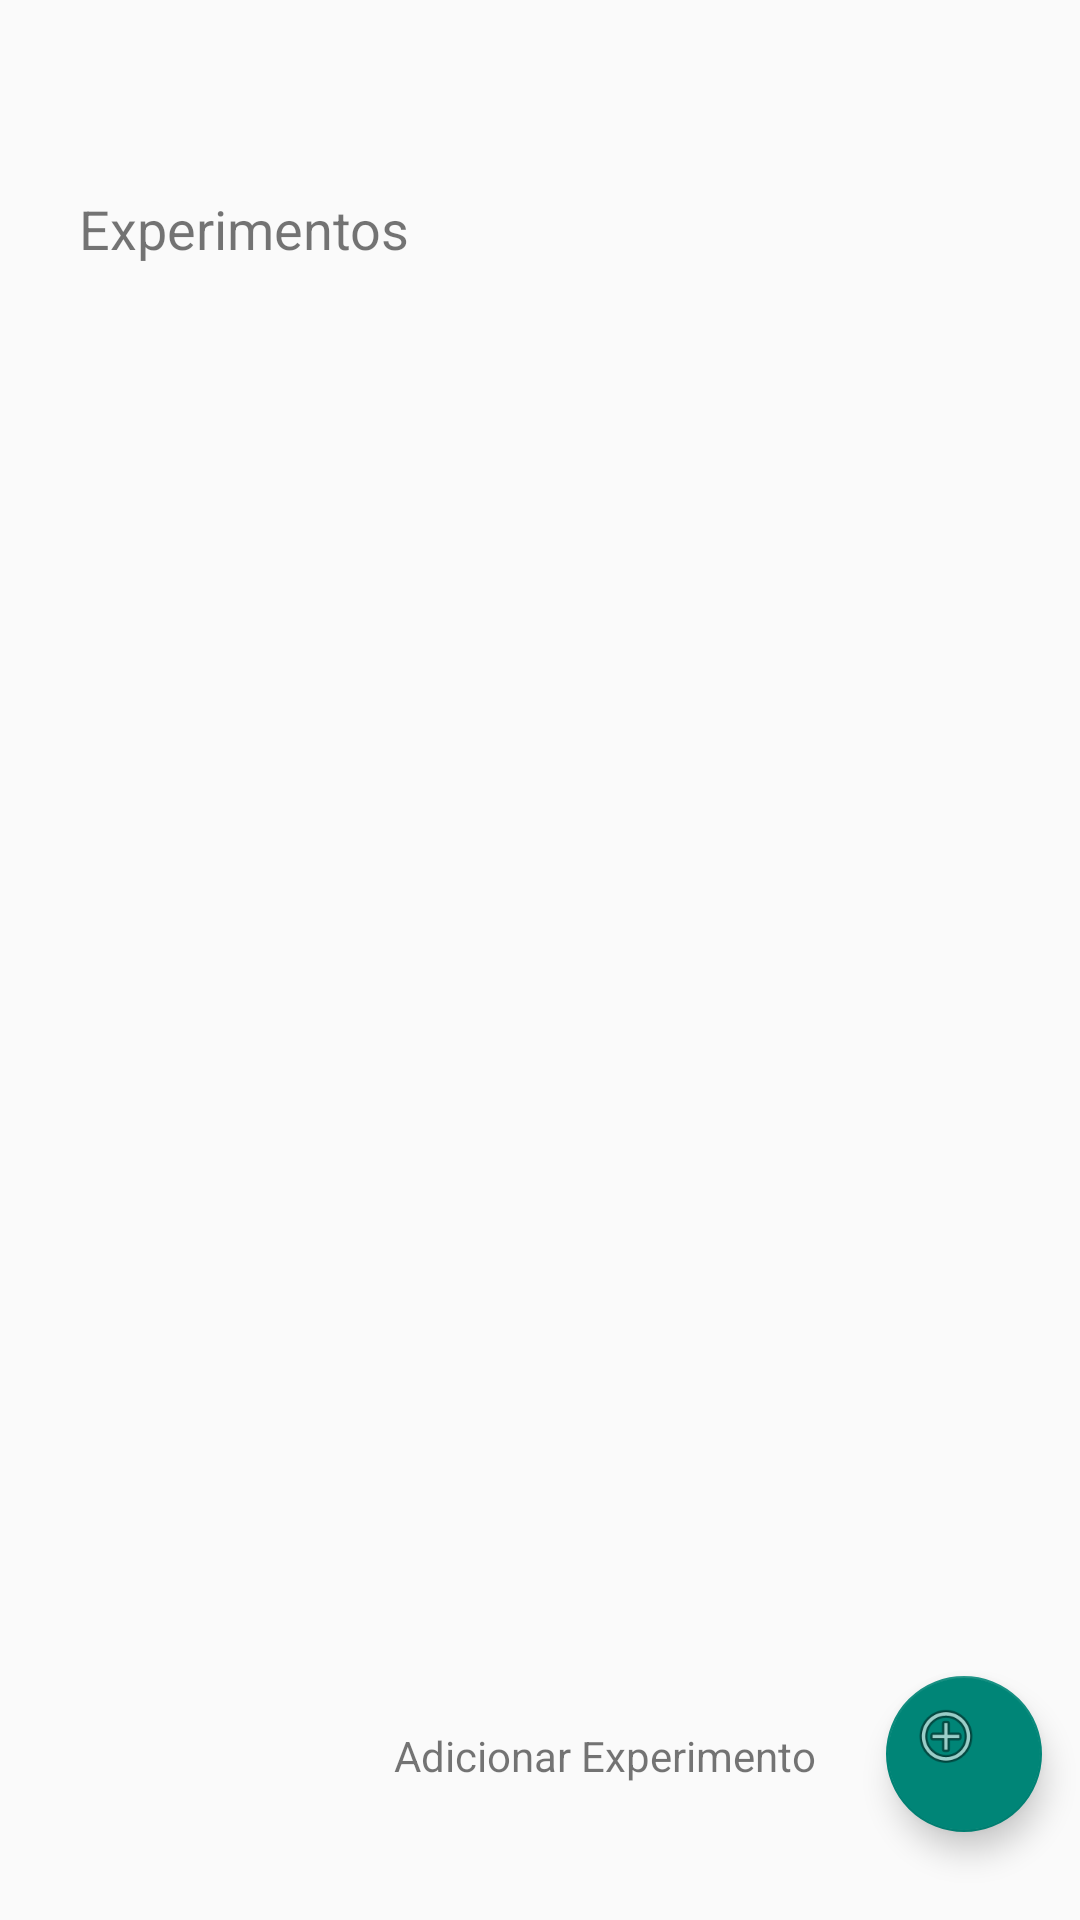

Icons on this 1080 x 1920 Android screen, each with its box as (x1, y1, x2, y2):
add: (886, 1676, 1042, 1832)
